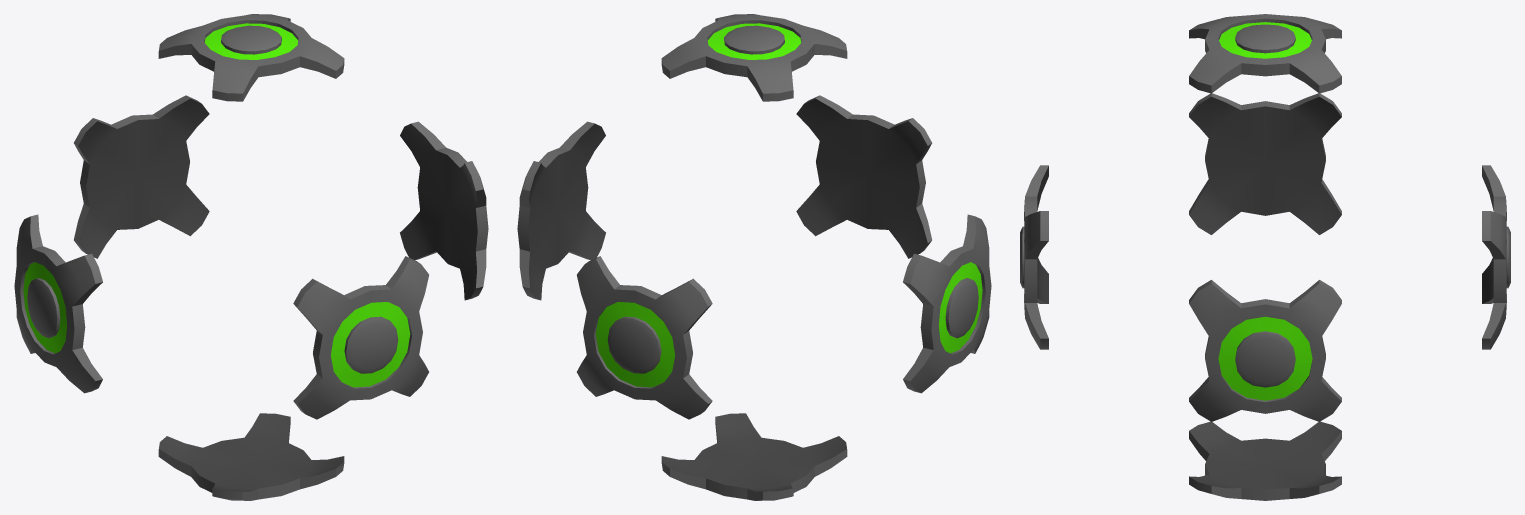
The model's file is Ball_projectors.fbx.
3 views of the same model, side by side, from view 1: azimuth 30°, elevation 25°; view 2: azimuth 150°, elevation 25°; view 3: azimuth 270°, elevation 25° (orthographic).
Visible parts, largest first — view 1: Projectors; view 2: Projectors; view 3: Projectors.
Part boxes in pixels (x1=…): Projectors: x1=14, y1=14, x2=488, y2=500; Projectors: x1=517, y1=14, x2=991, y2=500; Projectors: x1=1020, y1=14, x2=1510, y2=500.
Size of the model in its own units: 203 by 203 by 203.
1 material, 1 textured.
